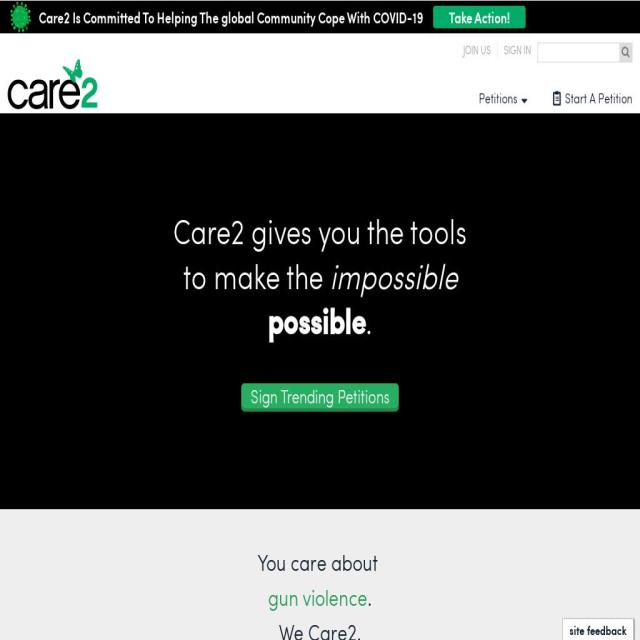button: (242, 382, 472, 417), (8, 59, 98, 109), (433, 5, 526, 28), (552, 87, 632, 108)
field: (538, 43, 620, 62)
image: (0, 113, 640, 509), (7, 0, 32, 33), (619, 43, 632, 62)
label: (562, 618, 634, 640), (472, 89, 534, 107)
link: (449, 6, 510, 27), (463, 42, 491, 58), (504, 42, 531, 58)
text: (173, 207, 467, 416), (33, 5, 428, 28), (330, 250, 458, 299), (268, 294, 366, 344), (258, 546, 382, 577), (279, 616, 361, 640), (300, 581, 336, 612), (366, 295, 372, 344), (335, 581, 340, 612)
